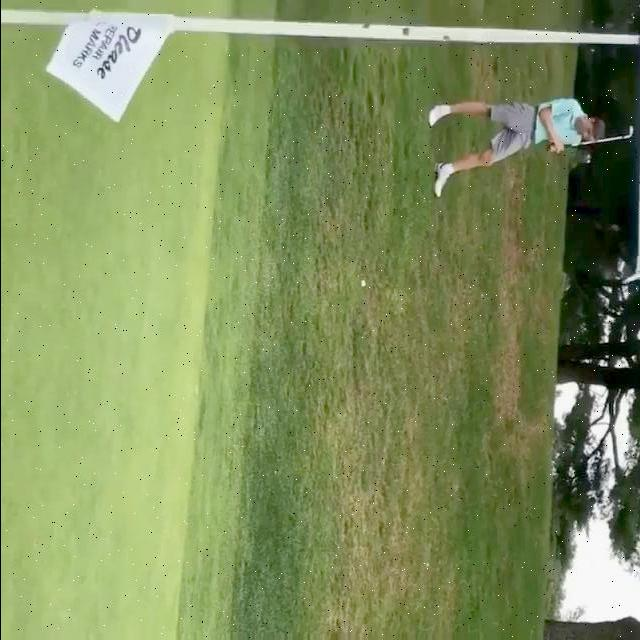golf ball: (359, 279, 365, 287)
golf club-handle: (563, 126, 633, 147)
golf club-head: (627, 126, 633, 137)
